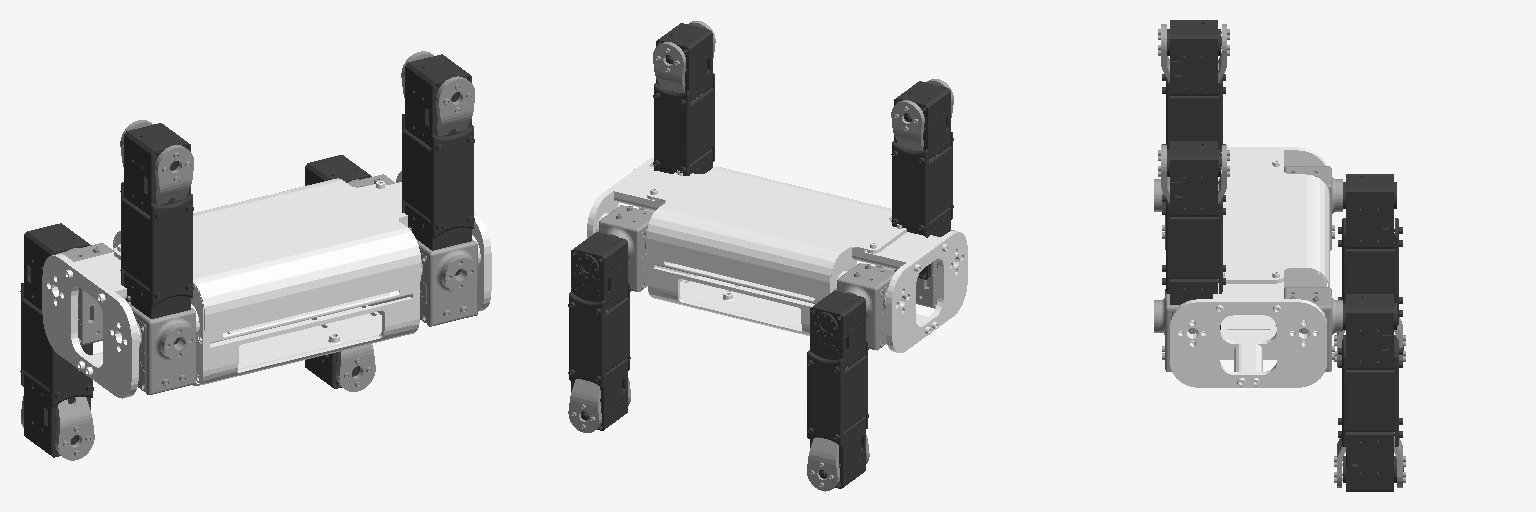
The robot description file, URDF, robot "spotmicro_proprio_v5":
<?xml version="1.0" encoding="utf-8"?>
<!-- This URDF was automatically created by SolidWorks to URDF Exporter! Originally created by [author] ([email redacted]) 
     Commit Version: 1.6.0-1-g15f4949  Build Version: 1.6.7594.29634
     For more information, please see http://wiki.ros.org/sw_urdf_exporter -->
<robot
  name="spotmicro_proprio_v5">
  <link
    name="chassis">
    <inertial>
      <origin
        xyz="-0.0004446 -6.2306E-06 0.00028704"
        rpy="0 0 0" />
      <mass
        value="0.84814" />
      <inertia
        ixx="0.0011573"
        ixy="-7.5974E-08"
        ixz="-2.7758E-07"
        iyy="0.00099291"
        iyz="1.0649E-08"
        izz="0.0015395" />
    </inertial>
    <visual>
      <origin
        xyz="0 0 0"
        rpy="0 0 0" />
      <geometry>
        <mesh
          filename="package://spotmicro_proprio_v5/meshes/chassis.STL" />
      </geometry>
      <material
        name="">
        <color
          rgba="1 1 1 1" />
      </material>
    </visual>
    <collision>
      <origin
        xyz="0 0 0"
        rpy="0 0 0" />
      <geometry>
        <mesh
          filename="package://spotmicro_proprio_v5/meshes/chassis.STL" />
      </geometry>
    </collision>
  </link>
  <link
    name="FR_hip">
    <inertial>
      <origin
        xyz="-0.0032526 -0.0094319 0.019337"
        rpy="0 0 0" />
      <mass
        value="0.10477" />
      <inertia
        ixx="2.9556E-05"
        ixy="-1.6557E-06"
        ixz="2.1529E-11"
        iyy="1.7077E-05"
        iyz="-3.5945E-08"
        izz="2.6993E-05" />
    </inertial>
    <visual>
      <origin
        xyz="0 0 0"
        rpy="0 0 0" />
      <geometry>
        <mesh
          filename="package://spotmicro_proprio_v5/meshes/FR_hip.STL" />
      </geometry>
      <material
        name="">
        <color
          rgba="0.69804 0.69804 0.69804 1" />
      </material>
    </visual>
    <collision>
      <origin
        xyz="0 0 0"
        rpy="0 0 0" />
      <geometry>
        <mesh
          filename="package://spotmicro_proprio_v5/meshes/FR_hip.STL" />
      </geometry>
    </collision>
  </link>
  <joint
    name="FR_hip_roll"
    type="revolute">
    <origin
      xyz="0.081 -0.039 0.009"
      rpy="1.5708 0 1.5708" />
    <parent
      link="chassis" />
    <child
      link="FR_hip" />
    <axis
      xyz="0 0 1" />
    <limit
      lower="-1.57"
      upper="1.57"
      effort="3"
      velocity="8" />
  </joint>
  <link
    name="FR_upper_leg">
    <inertial>
      <origin
        xyz="1.19898674322272E-11 -0.0589999999892911 0.0234492015158459"
        rpy="0 0 0" />
      <mass
        value="0.186407498655757" />
      <inertia
        ixx="5.87035326015844E-05"
        ixy="1.99926341478042E-14"
        ixz="1.81354376032622E-14"
        iyy="3.64527307900986E-05"
        iyz="6.79432986779939E-08"
        izz="5.00787101141682E-05" />
    </inertial>
    <visual>
      <origin
        xyz="0 0 0"
        rpy="0 0 0" />
      <geometry>
        <mesh
          filename="package://spotmicro_proprio_v5/meshes/FR_upper_leg.STL" />
      </geometry>
      <material
        name="">
        <color
          rgba="0.298039215686275 0.298039215686275 0.298039215686275 1" />
      </material>
    </visual>
    <collision>
      <origin
        xyz="0 0 0"
        rpy="0 0 0" />
      <geometry>
        <mesh
          filename="package://spotmicro_proprio_v5/meshes/FR_upper_leg.STL" />
      </geometry>
    </collision>
  </link>
  <joint
    name="FR_hip_pitch"
    type="revolute">
    <origin
      xyz="-0.0226 0 0.019"
      rpy="3.1416 -1.5708 0" />
    <parent
      link="FR_hip" />
    <child
      link="FR_upper_leg" />
    <axis
      xyz="0 0 1" />
    <limit
      lower="-1.57"
      upper="1.57"
      effort="3"
      velocity="8" />
  </joint>
  <link
    name="FR_lower_leg">
    <inertial>
      <origin
        xyz="0.0237537809269848 0.0523651689541875 1.05791522791998E-07"
        rpy="0 0 0" />
      <mass
        value="0.0514314796513697" />
      <inertia
        ixx="3.95073753491517E-05"
        ixy="4.88497364958468E-06"
        ixz="-1.65219951715732E-11"
        iyy="4.30274202211496E-06"
        iyz="1.46673398826226E-10"
        izz="4.10006869878226E-05" />
    </inertial>
    <visual>
      <origin
        xyz="0 0 0"
        rpy="0 0 0" />
      <geometry>
        <mesh
          filename="package://spotmicro_proprio_v5/meshes/FR_lower_leg.STL" />
      </geometry>
      <material
        name="">
        <color
          rgba="0.698039215686274 0.698039215686274 0.698039215686274 1" />
      </material>
    </visual>
    <collision>
      <origin
        xyz="0 0 0"
        rpy="0 0 0" />
      <geometry>
        <mesh
          filename="package://spotmicro_proprio_v5/meshes/FR_lower_leg.STL" />
      </geometry>
    </collision>
  </link>
  <joint
    name="FR_knee_pitch"
    type="revolute">
    <origin
      xyz="0 -0.118 0"
      rpy="0 -1.5708 0" />
    <parent
      link="FR_upper_leg" />
    <child
      link="FR_lower_leg" />
    <axis
      xyz="1 0 0" />
    <limit
      lower="-1.57"
      upper="1.57"
      effort="3"
      velocity="8" />
  </joint>
  <link
    name="FL_hip">
    <inertial>
      <origin
        xyz="0.0032526 -0.0094319 0.019337"
        rpy="0 0 0" />
      <mass
        value="0.10477" />
      <inertia
        ixx="2.9556E-05"
        ixy="1.6557E-06"
        ixz="2.1561E-11"
        iyy="1.7077E-05"
        iyz="-3.5995E-08"
        izz="2.6993E-05" />
    </inertial>
    <visual>
      <origin
        xyz="0 0 0"
        rpy="0 0 0" />
      <geometry>
        <mesh
          filename="package://spotmicro_proprio_v5/meshes/FL_hip.STL" />
      </geometry>
      <material
        name="">
        <color
          rgba="0.69804 0.69804 0.69804 1" />
      </material>
    </visual>
    <collision>
      <origin
        xyz="0 0 0"
        rpy="0 0 0" />
      <geometry>
        <mesh
          filename="package://spotmicro_proprio_v5/meshes/FL_hip.STL" />
      </geometry>
    </collision>
  </link>
  <joint
    name="FL_hip_roll"
    type="revolute">
    <origin
      xyz="0.081 0.039 0.009"
      rpy="1.5708 0 1.5708" />
    <parent
      link="chassis" />
    <child
      link="FL_hip" />
    <axis
      xyz="0 0 1" />
    <limit
      lower="-1.57"
      upper="1.57"
      effort="3"
      velocity="8" />
  </joint>
  <link
    name="FL_upper_leg">
    <inertial>
      <origin
        xyz="1.19906307105566E-11 -0.0589999999892912 0.0234492015158475"
        rpy="0 0 0" />
      <mass
        value="0.186407498655757" />
      <inertia
        ixx="5.87035326015845E-05"
        ixy="1.99926211632493E-14"
        ixz="1.81353886457592E-14"
        iyy="3.64527307900987E-05"
        iyz="6.7943298678007E-08"
        izz="5.00787101141683E-05" />
    </inertial>
    <visual>
      <origin
        xyz="0 0 0"
        rpy="0 0 0" />
      <geometry>
        <mesh
          filename="package://spotmicro_proprio_v5/meshes/FL_upper_leg.STL" />
      </geometry>
      <material
        name="">
        <color
          rgba="0.298039215686275 0.298039215686275 0.298039215686275 1" />
      </material>
    </visual>
    <collision>
      <origin
        xyz="0 0 0"
        rpy="0 0 0" />
      <geometry>
        <mesh
          filename="package://spotmicro_proprio_v5/meshes/FL_upper_leg.STL" />
      </geometry>
    </collision>
  </link>
  <joint
    name="FL_hip_pitch"
    type="revolute">
    <origin
      xyz="0.0226 0 0.019"
      rpy="0 1.5708 0" />
    <parent
      link="FL_hip" />
    <child
      link="FL_upper_leg" />
    <axis
      xyz="0 0 1" />
    <limit
      lower="-1.57"
      upper="1.57"
      effort="3"
      velocity="8" />
  </joint>
  <link
    name="FL_lower_leg">
    <inertial>
      <origin
        xyz="0.0232537809269858 -0.0523651689541877 -1.0579152302792E-07"
        rpy="0 0 0" />
      <mass
        value="0.0514314796513697" />
      <inertia
        ixx="3.95073753491516E-05"
        ixy="-4.88497364958502E-06"
        ixz="1.65219951847629E-11"
        iyy="4.30274202211505E-06"
        iyz="1.46673398866322E-10"
        izz="4.10006869878226E-05" />
    </inertial>
    <visual>
      <origin
        xyz="0 0 0"
        rpy="0 0 0" />
      <geometry>
        <mesh
          filename="package://spotmicro_proprio_v5/meshes/FL_lower_leg.STL" />
      </geometry>
      <material
        name="">
        <color
          rgba="0.698039215686274 0.698039215686274 0.698039215686274 1" />
      </material>
    </visual>
    <collision>
      <origin
        xyz="0 0 0"
        rpy="0 0 0" />
      <geometry>
        <mesh
          filename="package://spotmicro_proprio_v5/meshes/FL_lower_leg.STL" />
      </geometry>
    </collision>
  </link>
  <joint
    name="FL_knee_pitch"
    type="revolute">
    <origin
      xyz="0 -0.118 0"
      rpy="3.1416 -1.5708 0" />
    <parent
      link="FL_upper_leg" />
    <child
      link="FL_lower_leg" />
    <axis
      xyz="1 0 0" />
    <limit
      lower="-1.57"
      upper="1.57"
      effort="3"
      velocity="8" />
  </joint>
  <link
    name="RR_hip">
    <inertial>
      <origin
        xyz="-0.0032526 -0.0094319 -0.023063"
        rpy="0 0 0" />
      <mass
        value="0.10477" />
      <inertia
        ixx="2.9556E-05"
        ixy="-1.6557E-06"
        ixz="2.1529E-11"
        iyy="1.7077E-05"
        iyz="-3.5945E-08"
        izz="2.6993E-05" />
    </inertial>
    <visual>
      <origin
        xyz="0 0 0"
        rpy="0 0 0" />
      <geometry>
        <mesh
          filename="package://spotmicro_proprio_v5/meshes/RR_hip.STL" />
      </geometry>
      <material
        name="">
        <color
          rgba="0.69804 0.69804 0.69804 1" />
      </material>
    </visual>
    <collision>
      <origin
        xyz="0 0 0"
        rpy="0 0 0" />
      <geometry>
        <mesh
          filename="package://spotmicro_proprio_v5/meshes/RR_hip.STL" />
      </geometry>
    </collision>
  </link>
  <joint
    name="RR_hip_roll"
    type="revolute">
    <origin
      xyz="-0.0766 -0.039 0.009"
      rpy="1.5708 0 1.5708" />
    <parent
      link="chassis" />
    <child
      link="RR_hip" />
    <axis
      xyz="0 0 1" />
    <limit
      lower="-1.57"
      upper="1.57"
      effort="3"
      velocity="8" />
  </joint>
  <link
    name="RR_upper_leg">
    <inertial>
      <origin
        xyz="1.19898951878028E-11 -0.0589999999892923 0.023449201515846"
        rpy="0 0 0" />
      <mass
        value="0.186407498655757" />
      <inertia
        ixx="5.87035326015845E-05"
        ixy="1.99926242905013E-14"
        ixz="1.81354443822145E-14"
        iyy="3.64527307900987E-05"
        iyz="6.79432986779969E-08"
        izz="5.00787101141683E-05" />
    </inertial>
    <visual>
      <origin
        xyz="0 0 0"
        rpy="0 0 0" />
      <geometry>
        <mesh
          filename="package://spotmicro_proprio_v5/meshes/RR_upper_leg.STL" />
      </geometry>
      <material
        name="">
        <color
          rgba="0.298039215686275 0.298039215686275 0.298039215686275 1" />
      </material>
    </visual>
    <collision>
      <origin
        xyz="0 0 0"
        rpy="0 0 0" />
      <geometry>
        <mesh
          filename="package://spotmicro_proprio_v5/meshes/RR_upper_leg.STL" />
      </geometry>
    </collision>
  </link>
  <joint
    name="RR_hip_pitch"
    type="revolute">
    <origin
      xyz="-0.0226 0 -0.0234"
      rpy="3.1416 -1.5708 0" />
    <parent
      link="RR_hip" />
    <child
      link="RR_upper_leg" />
    <axis
      xyz="0 0 1" />
    <limit
      lower="-1.57"
      upper="1.57"
      effort="3"
      velocity="8" />
  </joint>
  <link
    name="RR_lower_leg">
    <inertial>
      <origin
        xyz="0.0237537809269848 0.0523651689541875 1.0579152277812E-07"
        rpy="0 0 0" />
      <mass
        value="0.0514314796513697" />
      <inertia
        ixx="3.95073753491517E-05"
        ixy="4.88497364958468E-06"
        ixz="-1.65219951719277E-11"
        iyy="4.30274202211496E-06"
        iyz="1.46673398821205E-10"
        izz="4.10006869878226E-05" />
    </inertial>
    <visual>
      <origin
        xyz="0 0 0"
        rpy="0 0 0" />
      <geometry>
        <mesh
          filename="package://spotmicro_proprio_v5/meshes/RR_lower_leg.STL" />
      </geometry>
      <material
        name="">
        <color
          rgba="0.698039215686274 0.698039215686274 0.698039215686274 1" />
      </material>
    </visual>
    <collision>
      <origin
        xyz="0 0 0"
        rpy="0 0 0" />
      <geometry>
        <mesh
          filename="package://spotmicro_proprio_v5/meshes/RR_lower_leg.STL" />
      </geometry>
    </collision>
  </link>
  <joint
    name="RR_knee_pitch"
    type="revolute">
    <origin
      xyz="0 -0.118 0"
      rpy="0 -1.5708 0" />
    <parent
      link="RR_upper_leg" />
    <child
      link="RR_lower_leg" />
    <axis
      xyz="1 0 0" />
    <limit
      lower="-1.57"
      upper="1.57"
      effort="3"
      velocity="8" />
  </joint>
  <link
    name="RL_hip">
    <inertial>
      <origin
        xyz="0.0032526 -0.0094319 -0.023063"
        rpy="0 0 0" />
      <mass
        value="0.10477" />
      <inertia
        ixx="2.9556E-05"
        ixy="1.6557E-06"
        ixz="2.1529E-11"
        iyy="1.7077E-05"
        iyz="-3.5995E-08"
        izz="2.6993E-05" />
    </inertial>
    <visual>
      <origin
        xyz="0 0 0"
        rpy="0 0 0" />
      <geometry>
        <mesh
          filename="package://spotmicro_proprio_v5/meshes/RL_hip.STL" />
      </geometry>
      <material
        name="">
        <color
          rgba="0.69804 0.69804 0.69804 1" />
      </material>
    </visual>
    <collision>
      <origin
        xyz="0 0 0"
        rpy="0 0 0" />
      <geometry>
        <mesh
          filename="package://spotmicro_proprio_v5/meshes/RL_hip.STL" />
      </geometry>
    </collision>
  </link>
  <joint
    name="RL_hip_roll"
    type="revolute">
    <origin
      xyz="-0.0766 0.039 0.009"
      rpy="1.5708 0 1.5708" />
    <parent
      link="chassis" />
    <child
      link="RL_hip" />
    <axis
      xyz="0 0 1" />
    <limit
      lower="-1.57"
      upper="1.57"
      effort="3"
      velocity="8" />
  </joint>
  <link
    name="RL_upper_leg">
    <inertial>
      <origin
        xyz="1.19905613216176E-11 -0.0589999999892911 0.0234492015158476"
        rpy="0 0 0" />
      <mass
        value="0.186407498655757" />
      <inertia
        ixx="5.87035326015845E-05"
        ixy="1.99926203604365E-14"
        ixz="1.81354103273646E-14"
        iyy="3.64527307900987E-05"
        iyz="6.79432986779987E-08"
        izz="5.00787101141684E-05" />
    </inertial>
    <visual>
      <origin
        xyz="0 0 0"
        rpy="0 0 0" />
      <geometry>
        <mesh
          filename="package://spotmicro_proprio_v5/meshes/RL_upper_leg.STL" />
      </geometry>
      <material
        name="">
        <color
          rgba="0.298039215686275 0.298039215686275 0.298039215686275 1" />
      </material>
    </visual>
    <collision>
      <origin
        xyz="0 0 0"
        rpy="0 0 0" />
      <geometry>
        <mesh
          filename="package://spotmicro_proprio_v5/meshes/RL_upper_leg.STL" />
      </geometry>
    </collision>
  </link>
  <joint
    name="RL_hip_pitch"
    type="revolute">
    <origin
      xyz="0.0226 0 -0.0234"
      rpy="0 1.5708 0" />
    <parent
      link="RL_hip" />
    <child
      link="RL_upper_leg" />
    <axis
      xyz="0 0 1" />
    <limit
      lower="-1.57"
      upper="1.57"
      effort="3"
      velocity="8" />
  </joint>
  <link
    name="RL_lower_leg">
    <inertial>
      <origin
        xyz="0.0232537809269859 -0.0523651689541877 -1.05791522944654E-07"
        rpy="0 0 0" />
      <mass
        value="0.0514314796513697" />
      <inertia
        ixx="3.95073753491516E-05"
        ixy="-4.88497364958502E-06"
        ixz="1.65219951823521E-11"
        iyy="4.30274202211505E-06"
        iyz="1.46673398858172E-10"
        izz="4.10006869878226E-05" />
    </inertial>
    <visual>
      <origin
        xyz="0 0 0"
        rpy="0 0 0" />
      <geometry>
        <mesh
          filename="package://spotmicro_proprio_v5/meshes/RL_lower_leg.STL" />
      </geometry>
      <material
        name="">
        <color
          rgba="0.698039215686274 0.698039215686274 0.698039215686274 1" />
      </material>
    </visual>
    <collision>
      <origin
        xyz="0 0 0"
        rpy="0 0 0" />
      <geometry>
        <mesh
          filename="package://spotmicro_proprio_v5/meshes/RL_lower_leg.STL" />
      </geometry>
    </collision>
  </link>
  <joint
    name="RL_knee_pitch"
    type="revolute">
    <origin
      xyz="0 -0.118 0"
      rpy="3.1416 -1.5708 0" />
    <parent
      link="RL_upper_leg" />
    <child
      link="RL_lower_leg" />
    <axis
      xyz="1 0 0" />
    <limit
      lower="-1.57"
      upper="1.57"
      effort="3"
      velocity="8" />
  </joint>
</robot>

--- What the picture shows (computed from the rendered views, not written in the file) ---
3 views of the same robot in one strip: view 1: azimuth 30°, elevation 25°; view 2: azimuth 150°, elevation 25°; view 3: azimuth 270°, elevation 25° (orthographic).
Robot: spotmicro_proprio_v5 — 13 links, 12 joints (12 revolute); root link chassis; default pose: every joint at zero.
Links seen in each view (by area): view 1: chassis, RR_upper_leg, FR_upper_leg, RL_upper_leg, RR_hip, FR_hip, FL_upper_leg, RR_lower_leg, FR_lower_leg, RL_lower_leg, RL_hip, FL_lower_leg; view 2: chassis, FL_upper_leg, RL_upper_leg, RR_upper_leg, FR_upper_leg, RL_hip, FL_hip, RR_lower_leg, RL_lower_leg, FL_lower_leg, FR_lower_leg, RR_hip; view 3: chassis, FL_upper_leg, FR_upper_leg, RL_upper_leg, RR_upper_leg, FL_hip, RL_hip, FR_hip, RR_lower_leg, FR_lower_leg, FL_lower_leg.
Link boxes in pixels (bbox=[...]): chassis: bbox=[42, 171, 491, 398]; RR_upper_leg: bbox=[120, 123, 193, 344]; FR_upper_leg: bbox=[402, 54, 474, 275]; RL_upper_leg: bbox=[20, 223, 93, 457]; RR_hip: bbox=[127, 302, 195, 394]; FR_hip: bbox=[416, 239, 477, 326]; FL_upper_leg: bbox=[305, 155, 371, 388]; RR_lower_leg: bbox=[120, 120, 193, 216]; FR_lower_leg: bbox=[401, 51, 474, 146]; RL_lower_leg: bbox=[21, 396, 94, 460]; RL_hip: bbox=[58, 243, 112, 345]; FL_lower_leg: bbox=[336, 344, 375, 391]; chassis: bbox=[587, 158, 967, 352]; FL_upper_leg: bbox=[568, 232, 630, 430]; RL_upper_leg: bbox=[807, 290, 868, 488]; RR_upper_leg: bbox=[891, 81, 953, 279]; FR_upper_leg: bbox=[653, 23, 714, 175]; RL_hip: bbox=[837, 263, 894, 350]; FL_hip: bbox=[599, 205, 652, 291]; RR_lower_leg: bbox=[891, 79, 953, 160]; RL_lower_leg: bbox=[807, 367, 869, 491]; FL_lower_leg: bbox=[568, 308, 630, 432]; FR_lower_leg: bbox=[653, 21, 715, 102]; RR_hip: bbox=[894, 230, 954, 308]; chassis: bbox=[1170, 147, 1329, 387]; FL_upper_leg: bbox=[1338, 294, 1403, 491]; FR_upper_leg: bbox=[1162, 141, 1225, 329]; RL_upper_leg: bbox=[1338, 174, 1403, 353]; RR_upper_leg: bbox=[1162, 20, 1225, 156]; FL_hip: bbox=[1284, 287, 1342, 371]; RL_hip: bbox=[1284, 166, 1342, 250]; FR_hip: bbox=[1154, 289, 1197, 371]; RR_lower_leg: bbox=[1158, 24, 1229, 82]; FR_lower_leg: bbox=[1158, 145, 1229, 203]; FL_lower_leg: bbox=[1334, 432, 1405, 487].
Size in the robot's own frame: 0.262 by 0.176 by 0.262 metres.
Meshes: 13 distinct files referenced, 13 mesh visuals loaded (13 binary STL).